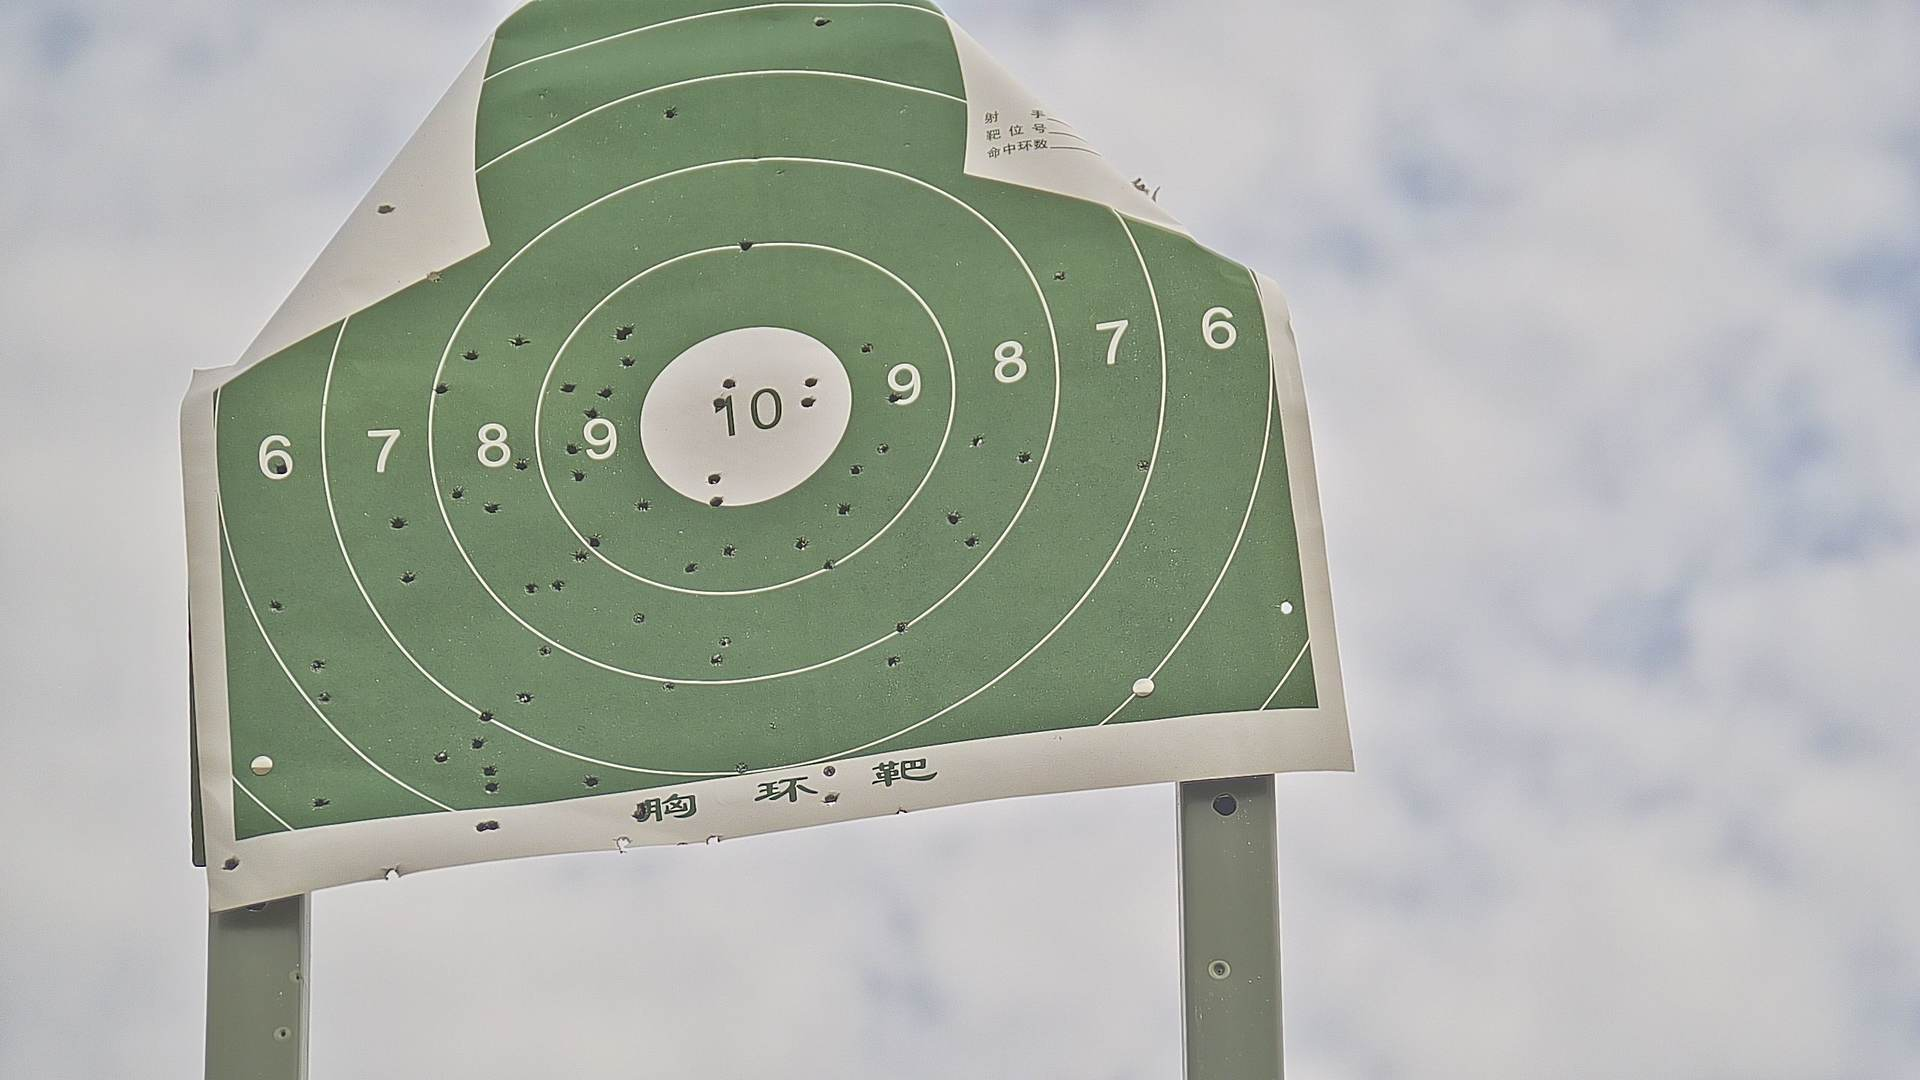hole: (632, 800, 651, 820), (823, 793, 840, 808), (802, 375, 819, 390), (310, 796, 328, 811), (1017, 448, 1033, 464), (1135, 458, 1153, 472), (886, 653, 903, 667), (720, 377, 737, 392), (615, 327, 628, 345), (588, 534, 603, 550), (522, 582, 538, 596), (483, 781, 498, 795), (965, 531, 978, 549), (583, 775, 601, 787), (709, 495, 724, 509), (622, 323, 637, 338), (567, 440, 582, 455), (538, 644, 553, 658), (400, 570, 414, 584), (969, 433, 982, 448), (835, 502, 851, 516), (560, 380, 576, 393), (269, 597, 282, 613), (316, 692, 332, 705), (709, 655, 727, 667), (310, 659, 327, 671), (705, 472, 724, 483), (945, 510, 960, 524), (822, 764, 836, 777), (622, 355, 636, 369), (571, 547, 585, 560), (517, 688, 531, 702), (485, 501, 498, 516), (887, 392, 903, 404), (723, 545, 738, 556), (483, 764, 498, 775), (1280, 600, 1292, 616), (665, 105, 675, 123), (794, 537, 807, 550), (713, 398, 727, 411), (510, 334, 524, 347), (479, 709, 492, 723), (861, 342, 876, 353), (800, 396, 815, 407), (585, 405, 597, 419), (574, 468, 585, 483), (814, 16, 829, 26), (1052, 270, 1065, 282), (822, 558, 833, 571), (632, 611, 644, 624), (600, 386, 613, 398), (553, 579, 564, 592), (516, 458, 527, 471), (392, 516, 404, 529), (893, 621, 907, 632), (684, 563, 699, 574), (851, 464, 866, 473), (877, 442, 889, 454), (637, 500, 649, 512), (436, 381, 448, 393), (662, 682, 675, 692), (473, 822, 487, 832), (435, 750, 446, 764), (489, 819, 498, 833), (471, 736, 483, 746), (738, 239, 752, 248), (720, 636, 733, 645), (452, 485, 462, 498), (465, 348, 477, 357), (735, 764, 748, 771)
kernel: (738, 406, 746, 414)
target: (208, 1, 1327, 845)
ten: (641, 324, 857, 509)
